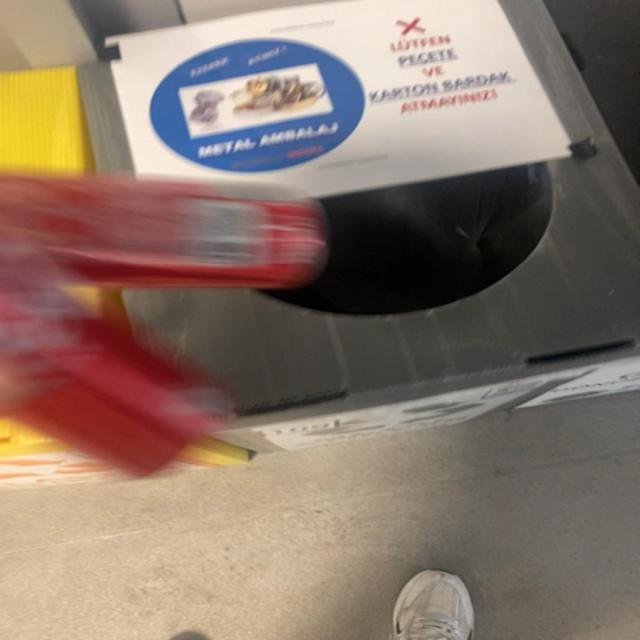metal: (0, 176, 325, 476)
